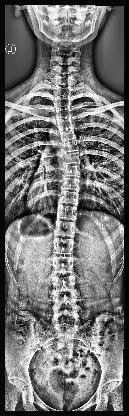Vertebrae: (51, 309, 81, 325), (52, 276, 78, 294), (52, 256, 76, 274), (53, 293, 79, 309), (54, 221, 78, 238), (52, 238, 76, 254), (57, 204, 79, 220), (61, 178, 82, 192), (58, 128, 78, 142), (61, 139, 81, 153), (62, 152, 82, 166), (62, 164, 82, 178), (60, 191, 80, 205), (57, 118, 75, 132), (54, 96, 72, 107), (56, 106, 72, 118)
